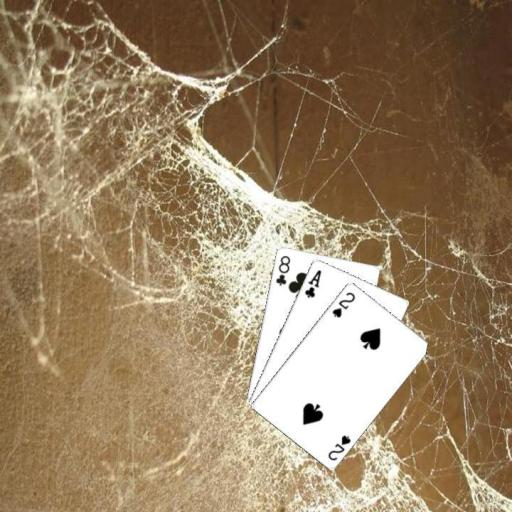2S: (330, 289, 357, 319), (325, 432, 352, 462)
8C: (273, 252, 292, 287)
AC: (301, 267, 323, 299)
